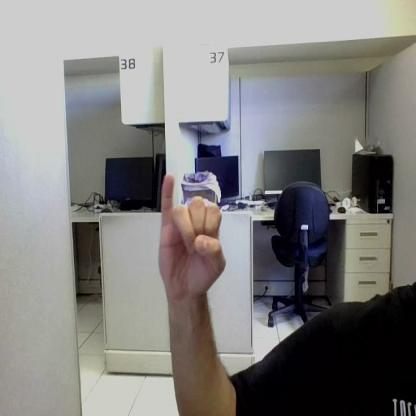I: (158, 176, 226, 293)
